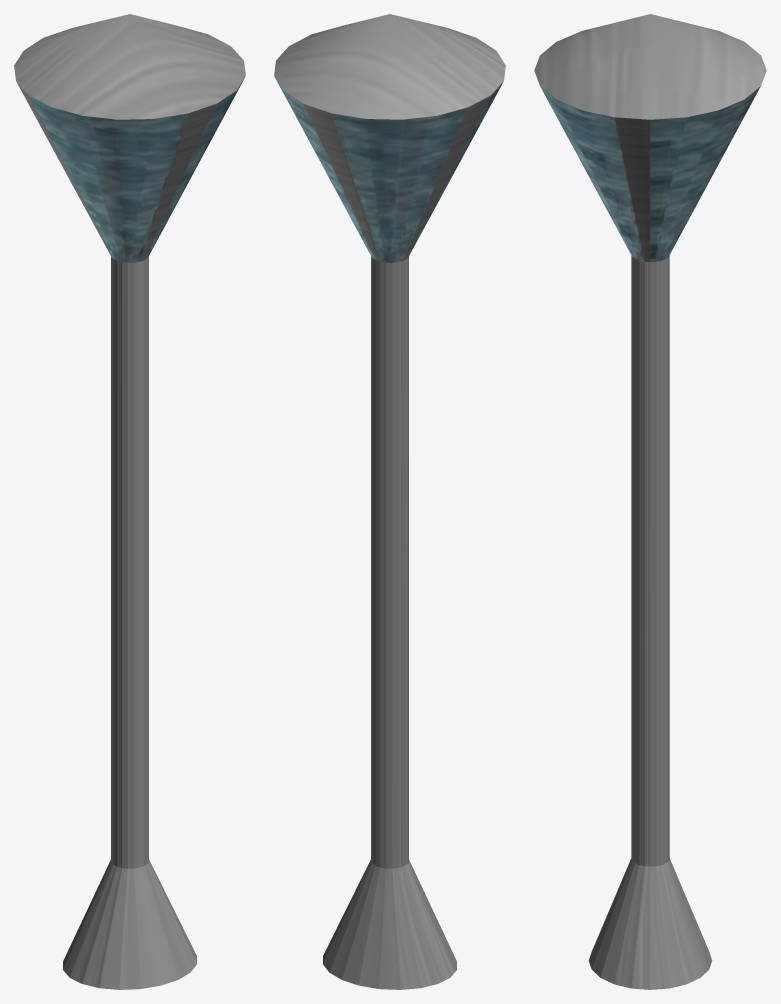
The model's file is Lantaarnpaal.fbx.
The picture shows the model from 3 angles, left to right: view 1: azimuth 30°, elevation 25°; view 2: azimuth 150°, elevation 25°; view 3: azimuth 270°, elevation 25°; orthographic projection.
Parts seen in each view (by area): view 1: pCylinder1; view 2: pCylinder1; view 3: pCylinder1.
Part boxes in pixels (x1,y1,x2,y2): pCylinder1: (14,14,245,989); pCylinder1: (274,14,505,989); pCylinder1: (534,14,766,989).
Size of the model in its own units: 1.93 by 8.65 by 1.93.
Materials: 2 (2 with a texture image).
